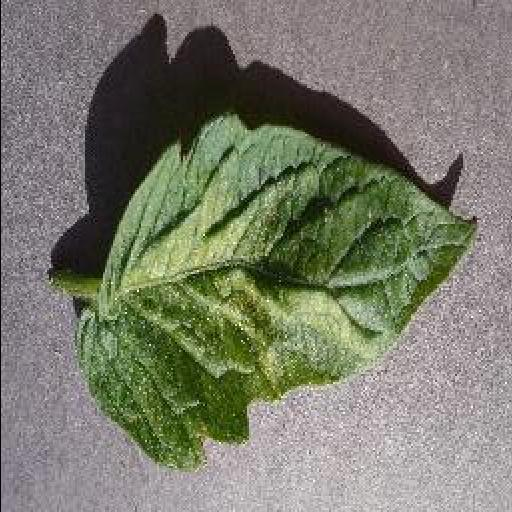disease_tomato: (72, 110, 480, 467)
